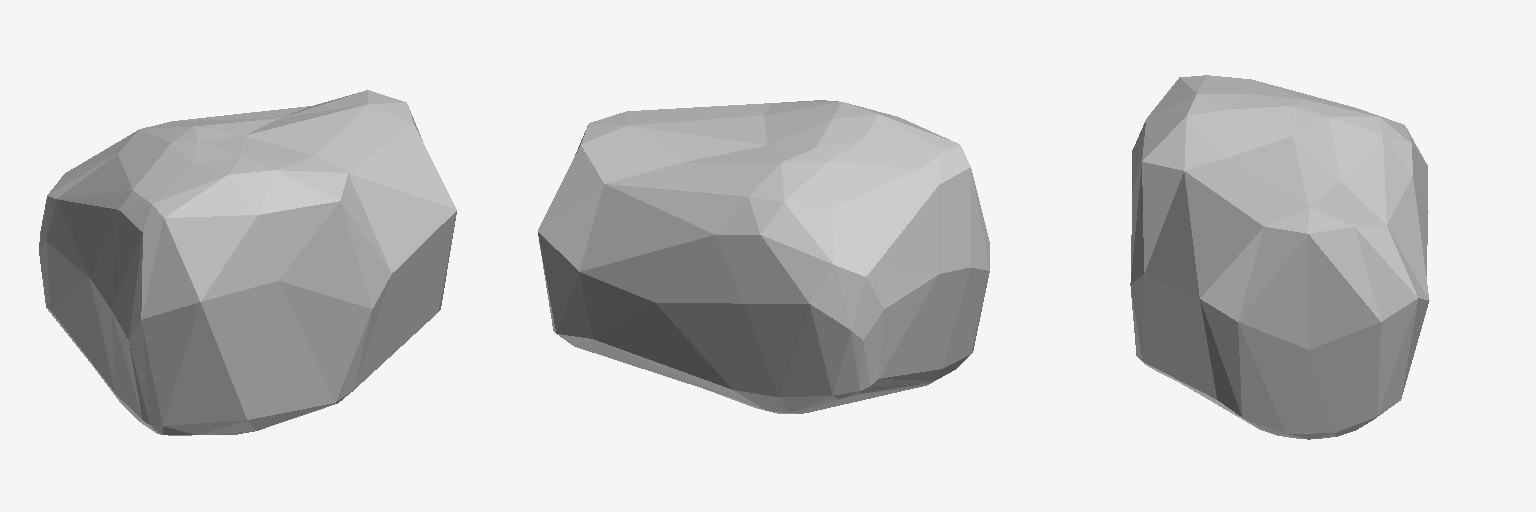
Rendered from rear_right_hip_collision.obj.
3 renders of one model, left to right at view 1: azimuth 30°, elevation 25°; view 2: azimuth 150°, elevation 25°; view 3: azimuth 270°, elevation 25°, orthographic.
Visible parts, largest first — view 1: rear_right_hip_collision; view 2: rear_right_hip_collision; view 3: rear_right_hip_collision.
Boxes of the visible parts, box(x1,y1,x2,y2) form: rear_right_hip_collision: box(39, 90, 456, 435); rear_right_hip_collision: box(538, 100, 989, 413); rear_right_hip_collision: box(1130, 75, 1429, 439).
Bounding box in the file's own units: 0.1615 × 0.1135 × 0.1197.